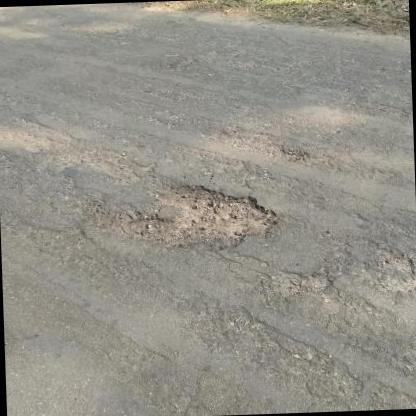pothole: (116, 177, 278, 254)
